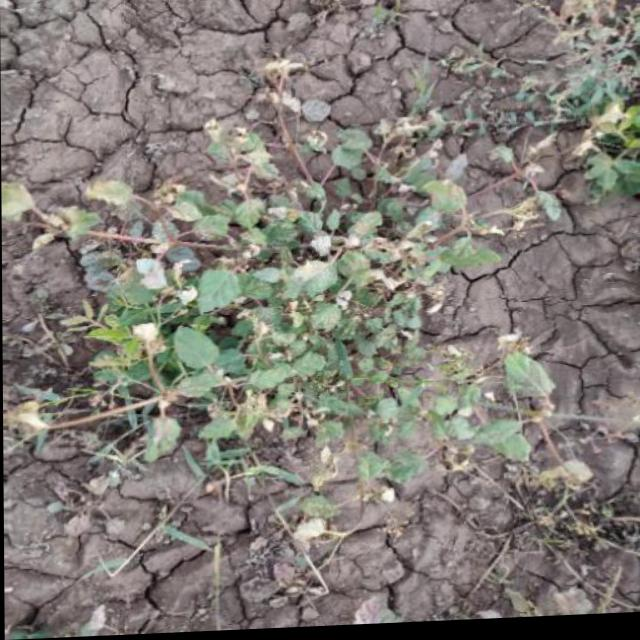weed: (19, 54, 597, 577)
